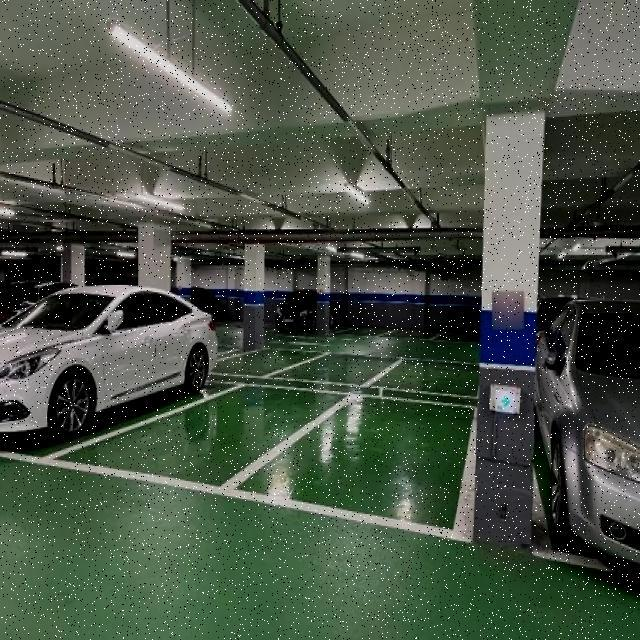empty: (316, 404, 487, 530), (140, 397, 322, 476), (388, 350, 478, 398), (306, 348, 390, 390), (221, 348, 304, 378)
occupied: (0, 284, 154, 432)
